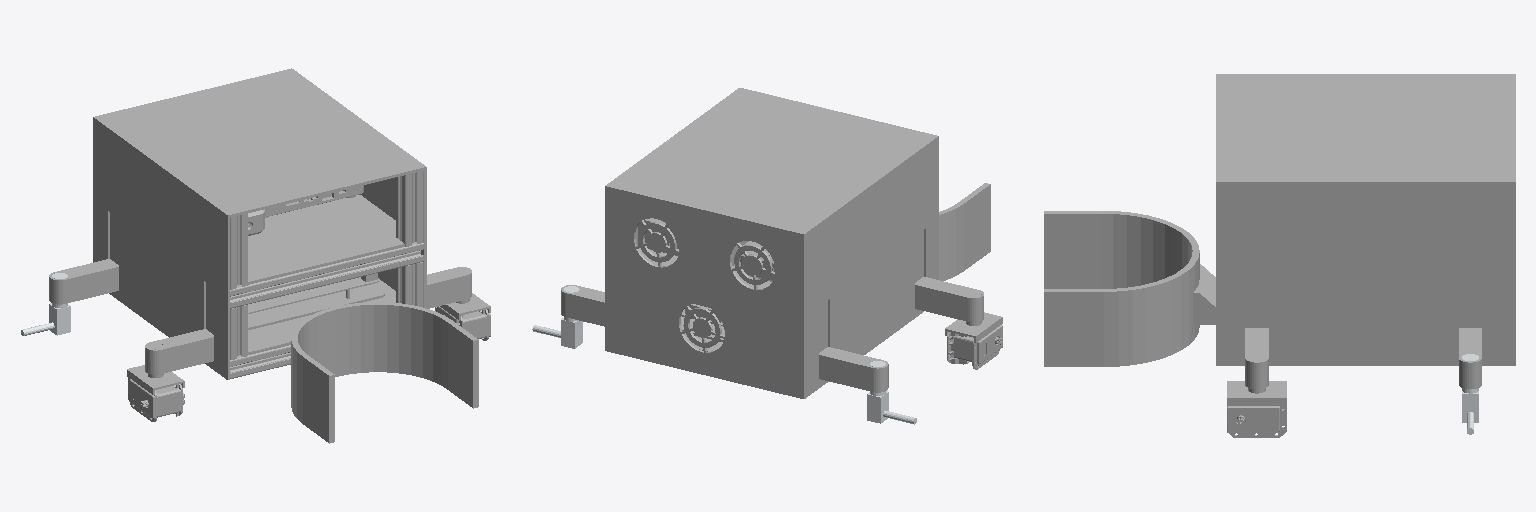
The robot description file, URDF, robot "cw6":
<?xml version="1.0" encoding="utf-8"?>
<!-- This URDF was automatically created by SolidWorks to URDF Exporter! Originally created by [author] ([email redacted]) 
     Commit Version: 1.5.1-0-g916b5db  Build Version: 1.5.7152.31018
     For more information, please see http://wiki.ros.org/sw_urdf_exporter -->
<robot
  name="cw6">
  <link
    name="Base">
    <inertial>
      <origin
        xyz="-0.0103440198515113 0.00278990141042678 0.307992605321707"
        rpy="0 0 0" />
      <mass
        value="5.26325366509133" />
      <inertia
        ixx="0.021935062758029"
        ixy="-4.01751561825356E-06"
        ixz="-1.47975198131455E-06"
        iyy="0.0231941861217007"
        iyz="-8.31653282128846E-06"
        izz="0.0148943720049105" />
    </inertial>
    <visual>
      <origin
        xyz="0 0 0"
        rpy="0 0 0" />
      <geometry>
        <mesh
          filename="package://cw6/meshes/Base.STL" />
      </geometry>
      <material
        name="">
        <color
          rgba="0.752941176470588 0.752941176470588 0.752941176470588 1" />
      </material>
    </visual>
    <collision>
      <origin
        xyz="0 0 0"
        rpy="0 0 0" />
      <geometry>
        <mesh
          filename="package://cw6/meshes/Base.STL" />
      </geometry>
    </collision>
  </link>
  <link
    name="LFS">
    <inertial>
      <origin
        xyz="0.0666875210853818 -0.0256174029954352 0.0272583251967587"
        rpy="0 0 0" />
      <mass
        value="0.26437001106024" />
      <inertia
        ixx="3.20746276473134E-05"
        ixy="-1.44118283521323E-07"
        ixz="-6.30853084344598E-08"
        iyy="6.22704126338856E-05"
        iyz="-2.01894652764193E-07"
        izz="6.28519936954001E-05" />
    </inertial>
    <visual>
      <origin
        xyz="0 0 0"
        rpy="0 0 0" />
      <geometry>
        <mesh
          filename="package://cw6/meshes/LFS.STL" />
      </geometry>
      <material
        name="">
        <color
          rgba="0.752941176470588 0.752941176470588 0.752941176470588 1" />
      </material>
    </visual>
    <collision>
      <origin
        xyz="0 0 0"
        rpy="0 0 0" />
      <geometry>
        <mesh
          filename="package://cw6/meshes/LFS.STL" />
      </geometry>
    </collision>
  </link>
  <joint
    name="LFS"
    type="prismatic">
    <origin
      xyz="0.19592 -0.40083 -0.029062"
      rpy="2.834 0 3.1416" />
    <parent
      link="Base" />
    <child
      link="LFS" />
    <axis
      xyz="0 0.3028 -0.95305" />
    <limit
      lower="0"
      upper="0"
      effort="0"
      velocity="0" />
  </joint>
  <link
    name="LFW">
    <inertial>
      <origin
        xyz="-0.012315724574073 -1.38777878078145E-17 0"
        rpy="0 0 0" />
      <mass
        value="0.193585420779862" />
      <inertia
        ixx="0.000253081141332254"
        ixy="-5.88092833198904E-37"
        ixz="5.1845054750851E-21"
        iyy="0.000136818598566517"
        iyz="7.17557753438369E-37"
        izz="0.000136818598566517" />
    </inertial>
    <visual>
      <origin
        xyz="0 0 0"
        rpy="0 0 0" />
      <geometry>
        <mesh
          filename="package://cw6/meshes/LFW.STL" />
      </geometry>
      <material
        name="">
        <color
          rgba="1 1 1 1" />
      </material>
    </visual>
    <collision>
      <origin
        xyz="0 0 0"
        rpy="0 0 0" />
      <geometry>
        <mesh
          filename="package://cw6/meshes/LFW.STL" />
      </geometry>
    </collision>
  </link>
  <joint
    name="LFW"
    type="continuous">
    <origin
      xyz="0.00041099 -0.047479 0.052309"
      rpy="-1.8784 0 3.1416" />
    <parent
      link="LFS" />
    <child
      link="LFW" />
    <axis
      xyz="1 0 0" />
    <limit
      effort="3.1"
      velocity="7" />
  </joint>
  <link
    name="RFS">
    <inertial>
      <origin
        xyz="0.0724473276378504 -0.0316832521314764 0.0253402400459296"
        rpy="0 0 0" />
      <mass
        value="0.26437001106024" />
      <inertia
        ixx="3.20746276473134E-05"
        ixy="1.4411828352133E-07"
        ixz="6.30853084344787E-08"
        iyy="6.22704126338856E-05"
        iyz="-2.01894652764197E-07"
        izz="6.28519936954002E-05" />
    </inertial>
    <visual>
      <origin
        xyz="0 0 0"
        rpy="0 0 0" />
      <geometry>
        <mesh
          filename="package://cw6/meshes/RFS.STL" />
      </geometry>
      <material
        name="">
        <color
          rgba="0.752941176470588 0.752941176470588 0.752941176470588 1" />
      </material>
    </visual>
    <collision>
      <origin
        xyz="0 0 0"
        rpy="0 0 0" />
      <geometry>
        <mesh
          filename="package://cw6/meshes/RFS.STL" />
      </geometry>
    </collision>
  </link>
  <joint
    name="RFS"
    type="prismatic">
    <origin
      xyz="-0.22416 -0.43952 -0.029062"
      rpy="2.834 0 0" />
    <parent
      link="Base" />
    <child
      link="RFS" />
    <axis
      xyz="0 0.3028 -0.95305" />
    <limit
      lower="0"
      upper="0"
      effort="0"
      velocity="0" />
  </joint>
  <link
    name="RFW">
    <inertial>
      <origin
        xyz="-0.012315724574073 0 0"
        rpy="0 0 0" />
      <mass
        value="0.193585420779862" />
      <inertia
        ixx="0.000253081141332254"
        ixy="-9.44297928840746E-22"
        ixz="9.68305644339428E-21"
        iyy="0.000136818598566517"
        iyz="1.01643953670516E-20"
        izz="0.000136818598566517" />
    </inertial>
    <visual>
      <origin
        xyz="0 0 0"
        rpy="0 0 0" />
      <geometry>
        <mesh
          filename="package://cw6/meshes/RFW.STL" />
      </geometry>
      <material
        name="">
        <color
          rgba="1 1 1 1" />
      </material>
    </visual>
    <collision>
      <origin
        xyz="0 0 0"
        rpy="0 0 0" />
      <geometry>
        <mesh
          filename="package://cw6/meshes/RFW.STL" />
      </geometry>
    </collision>
  </link>
  <joint
    name="RFW"
    type="continuous">
    <origin
      xyz="0.0061708 -0.028286 0.058405"
      rpy="-0.69943 0 3.1416" />
    <parent
      link="RFS" />
    <child
      link="RFW" />
    <axis
      xyz="1 0 0" />
    <limit
      effort="3.1"
      velocity="7" />
  </joint>
  <link
    name="LBS">
    <inertial>
      <origin
        xyz="0.0754022136877308 -0.0206011352566388 0.0126264314730555"
        rpy="0 0 0" />
      <mass
        value="0.197009126147877" />
      <inertia
        ixx="1.68802738687172E-05"
        ixy="3.27682936967558E-21"
        ixz="2.12640293441672E-20"
        iyy="5.02184885667569E-05"
        iyz="1.0508875929185E-06"
        izz="4.72447473350486E-05" />
    </inertial>
    <visual>
      <origin
        xyz="0 0 0"
        rpy="0 0 0" />
      <geometry>
        <mesh
          filename="package://cw6/meshes/LBS.STL" />
      </geometry>
      <material
        name="">
        <color
          rgba="0.752941176470588 0.752941176470588 0.752941176470588 1" />
      </material>
    </visual>
    <collision>
      <origin
        xyz="0 0 0"
        rpy="0 0 0" />
      <geometry>
        <mesh
          filename="package://cw6/meshes/LBS.STL" />
      </geometry>
    </collision>
  </link>
  <joint
    name="LBS"
    type="prismatic">
    <origin
      xyz="0.19592 -0.22083 -0.03772"
      rpy="2.834 0 3.1416" />
    <parent
      link="Base" />
    <child
      link="LBS" />
    <axis
      xyz="0 0.3028 -0.95305" />
    <limit
      lower="0"
      upper="0"
      effort="0"
      velocity="0" />
  </joint>
  <link
    name="LBC">
    <inertial>
      <origin
        xyz="0.00212675678752455 -0.0320227866410743 -2.77555756156289E-17"
        rpy="0 0 0" />
      <mass
        value="0.0337925918529465" />
      <inertia
        ixx="9.9077845929407E-06"
        ixy="1.2779398016802E-06"
        ixz="4.06172801784459E-22"
        iyy="2.88462343109061E-06"
        iyz="2.45915781700702E-21"
        izz="1.17553584577796E-05" />
    </inertial>
    <visual>
      <origin
        xyz="0 0 0"
        rpy="0 0 0" />
      <geometry>
        <mesh
          filename="package://cw6/meshes/LBC.STL" />
      </geometry>
      <material
        name="">
        <color
          rgba="0.898039215686275 0.917647058823529 0.929411764705882 1" />
      </material>
    </visual>
    <collision>
      <origin
        xyz="0 0 0"
        rpy="0 0 0" />
      <geometry>
        <mesh
          filename="package://cw6/meshes/LBC.STL" />
      </geometry>
    </collision>
  </link>
  <joint
    name="LBC"
    type="continuous">
    <origin
      xyz="0.041161 -0.016816 0.00071326"
      rpy="-1.8784 0 3.1416" />
    <parent
      link="LBS" />
    <child
      link="LBC" />
    <axis
      xyz="0 1 0" />
  </joint>
  <link
    name="LBW">
    <inertial>
      <origin
        xyz="0.017684275425927 0 0"
        rpy="0 0 0" />
      <mass
        value="0.193585420779862" />
      <inertia
        ixx="0.000253081141332254"
        ixy="-5.88092833198904E-37"
        ixz="5.1845054750851E-21"
        iyy="0.000136818598566517"
        iyz="7.17557753438369E-37"
        izz="0.000136818598566517" />
    </inertial>
    <visual>
      <origin
        xyz="0 0 0"
        rpy="0 0 0" />
      <geometry>
        <mesh
          filename="package://cw6/meshes/LBW.STL" />
      </geometry>
      <material
        name="">
        <color
          rgba="1 1 1 1" />
      </material>
    </visual>
    <collision>
      <origin
        xyz="0 0 0"
        rpy="0 0 0" />
      <geometry>
        <mesh
          filename="package://cw6/meshes/LBW.STL" />
      </geometry>
    </collision>
  </link>
  <joint
    name="LBW"
    type="continuous">
    <origin
      xyz="0.01075 -0.049804 0"
      rpy="0 0 0" />
    <parent
      link="LBC" />
    <child
      link="LBW" />
    <axis
      xyz="1 0 0" />
    <limit
      effort="3.1"
      velocity="7" />
  </joint>
  <link
    name="RBS">
    <inertial>
      <origin
        xyz="0.0754022136877307 -0.0206011352566388 0.0126264314730555"
        rpy="0 0 0" />
      <mass
        value="0.197009126147877" />
      <inertia
        ixx="1.68802738687172E-05"
        ixy="-2.41413023925079E-21"
        ixz="-1.24098246114624E-21"
        iyy="5.02184885667569E-05"
        iyz="1.05088759291849E-06"
        izz="4.72447473350486E-05" />
    </inertial>
    <visual>
      <origin
        xyz="0 0 0"
        rpy="0 0 0" />
      <geometry>
        <mesh
          filename="package://cw6/meshes/RBS.STL" />
      </geometry>
      <material
        name="">
        <color
          rgba="0.752941176470588 0.752941176470588 0.752941176470588 1" />
      </material>
    </visual>
    <collision>
      <origin
        xyz="0 0 0"
        rpy="0 0 0" />
      <geometry>
        <mesh
          filename="package://cw6/meshes/RBS.STL" />
      </geometry>
    </collision>
  </link>
  <joint
    name="RBS"
    type="prismatic">
    <origin
      xyz="-0.2184 -0.25245 -0.03772"
      rpy="2.834 0 0" />
    <parent
      link="Base" />
    <child
      link="RBS" />
    <axis
      xyz="0 0.3028 -0.95305" />
    <limit
      lower="0"
      upper="0"
      effort="0"
      velocity="0" />
  </joint>
  <link
    name="RBC">
    <inertial>
      <origin
        xyz="0.00212675678752453 -0.0320227866410743 0"
        rpy="0 0 0" />
      <mass
        value="0.0337925918529464" />
      <inertia
        ixx="9.90778459294068E-06"
        ixy="1.2779398016802E-06"
        ixz="6.13773556783196E-22"
        iyy="2.88462343109061E-06"
        iyz="2.59363956626768E-21"
        izz="1.17553584577795E-05" />
    </inertial>
    <visual>
      <origin
        xyz="0 0 0"
        rpy="0 0 0" />
      <geometry>
        <mesh
          filename="package://cw6/meshes/RBC.STL" />
      </geometry>
      <material
        name="">
        <color
          rgba="0.898039215686275 0.917647058823529 0.929411764705882 1" />
      </material>
    </visual>
    <collision>
      <origin
        xyz="0 0 0"
        rpy="0 0 0" />
      <geometry>
        <mesh
          filename="package://cw6/meshes/RBC.STL" />
      </geometry>
    </collision>
  </link>
  <joint
    name="RBC"
    type="continuous">
    <origin
      xyz="0.041161 -0.016816 0.00071326"
      rpy="-1.8784 0 3.1416" />
    <parent
      link="RBS" />
    <child
      link="RBC" />
    <axis
      xyz="0 1 0" />
  </joint>
  <link
    name="RBW">
    <inertial>
      <origin
        xyz="0.017684275425927 2.77555756156289E-17 2.77555756156289E-17"
        rpy="0 0 0" />
      <mass
        value="0.193585420779862" />
      <inertia
        ixx="0.000253081141332253"
        ixy="-1.77826406212573E-20"
        ixz="1.08676942117992E-20"
        iyy="0.000136818598566517"
        iyz="3.3881317890172E-21"
        izz="0.000136818598566517" />
    </inertial>
    <visual>
      <origin
        xyz="0 0 0"
        rpy="0 0 0" />
      <geometry>
        <mesh
          filename="package://cw6/meshes/RBW.STL" />
      </geometry>
      <material
        name="">
        <color
          rgba="1 1 1 1" />
      </material>
    </visual>
    <collision>
      <origin
        xyz="0 0 0"
        rpy="0 0 0" />
      <geometry>
        <mesh
          filename="package://cw6/meshes/RBW.STL" />
      </geometry>
    </collision>
  </link>
  <joint
    name="RBW"
    type="continuous">
    <origin
      xyz="0.01075 -0.049804 0"
      rpy="1.7808 0 0" />
    <parent
      link="RBC" />
    <child
      link="RBW" />
    <axis
      xyz="1 0 0" />
    <limit
      effort="3.1"
      velocity="7" />
  </joint>
  <link
    name="Lidar">
    <inertial>
      <origin
        xyz="-0.0784930223776797 -0.744427430949871 -0.133449677867872"
        rpy="0 0 0" />
      <mass
        value="0.0730845704939385" />
      <inertia
        ixx="1.95808756752826E-05"
        ixy="4.28391210279696E-07"
        ixz="-1.03933582212832E-07"
        iyy="4.14184516278689E-05"
        iyz="-9.42671979889646E-09"
        izz="2.41250079958323E-05" />
    </inertial>
    <visual>
      <origin
        xyz="0 0 0"
        rpy="0 0 0" />
      <geometry>
        <mesh
          filename="package://cw6/meshes/Lidar.STL" />
      </geometry>
      <material
        name="">
        <color
          rgba="0.792156862745098 0.819607843137255 0.933333333333333 1" />
      </material>
    </visual>
    <collision>
      <origin
        xyz="0 0 0"
        rpy="0 0 0" />
      <geometry>
        <mesh
          filename="package://cw6/meshes/Lidar.STL" />
      </geometry>
    </collision>
  </link>
  <joint
    name="Lidar"
    type="fixed">
    <origin
      xyz="0.12168 -0.35308 -0.62718"
      rpy="-1.5708 0 -1.5708" />
    <parent
      link="Base" />
    <child
      link="Lidar" />
    <axis
      xyz="0 0 0" />
  </joint>
  <link
    name="Cam">
    <inertial>
      <origin
        xyz="-0.0238863589328312 -0.0255006330045159 0.0933352730175544"
        rpy="0 0 0" />
      <mass
        value="0.0842240111641082" />
      <inertia
        ixx="1.39666927752748E-05"
        ixy="-8.82405655949321E-10"
        ixz="-1.01133319009121E-09"
        iyy="3.67256443822933E-05"
        iyz="-1.51507686967881E-06"
        izz="3.01150328860415E-05" />
    </inertial>
    <visual>
      <origin
        xyz="0 0 0"
        rpy="0 0 0" />
      <geometry>
        <mesh
          filename="package://cw6/meshes/Cam.STL" />
      </geometry>
      <material
        name="">
        <color
          rgba="0.752941176470588 0.752941176470588 0.752941176470588 1" />
      </material>
    </visual>
    <collision>
      <origin
        xyz="0 0 0"
        rpy="0 0 0" />
      <geometry>
        <mesh
          filename="package://cw6/meshes/Cam.STL" />
      </geometry>
    </collision>
  </link>
  <joint
    name="Cam"
    type="fixed">
    <origin
      xyz="0.012652 -0.35232 0.086256"
      rpy="1.7188 0 0" />
    <parent
      link="Base" />
    <child
      link="Cam" />
    <axis
      xyz="0 0 0" />
  </joint>
</robot>

--- Facts derived from the render (not from the file) ---
The picture shows the robot from 3 angles, left to right: view 1: azimuth 30°, elevation 25°; view 2: azimuth 150°, elevation 25°; view 3: azimuth 270°, elevation 25°; orthographic projection.
Robot: cw6 — 13 links, 12 joints (6 continuous, 4 prismatic, 2 fixed); root link Base; default pose: every joint at zero.
Visible links, largest first — view 1: Base, RFS, LFS, RBS, RBC; view 2: Base, RFS, RBS, LBS, RBC, LBC; view 3: Base, LFS, LBS, LBC.
Link boxes in pixels (bbox=[...]): Base: bbox=[93, 68, 478, 443]; RFS: bbox=[127, 329, 213, 421]; LFS: bbox=[427, 267, 490, 340]; RBS: bbox=[49, 259, 118, 304]; RBC: bbox=[21, 273, 70, 335]; Base: bbox=[605, 88, 990, 398]; RFS: bbox=[915, 277, 1002, 369]; RBS: bbox=[819, 347, 888, 392]; LBS: bbox=[561, 285, 604, 326]; RBC: bbox=[867, 361, 916, 424]; LBC: bbox=[532, 286, 582, 348]; Base: bbox=[1044, 74, 1515, 366]; LFS: bbox=[1227, 328, 1286, 437]; LBS: bbox=[1459, 328, 1481, 388]; LBC: bbox=[1462, 354, 1478, 434].
Bounding box of the posed robot: 0.4135 × 0.3973 × 0.2036 m (x, y, z).
Meshes: 13 distinct files referenced, 7 mesh visuals loaded (7 binary STL); not drawn: 6 (reference not matched to a file when rendering).